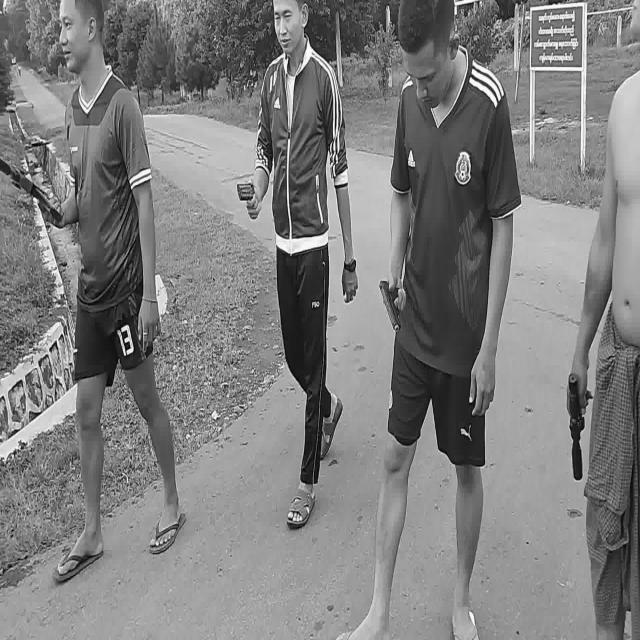gun: (1, 161, 60, 223), (378, 278, 402, 332)
